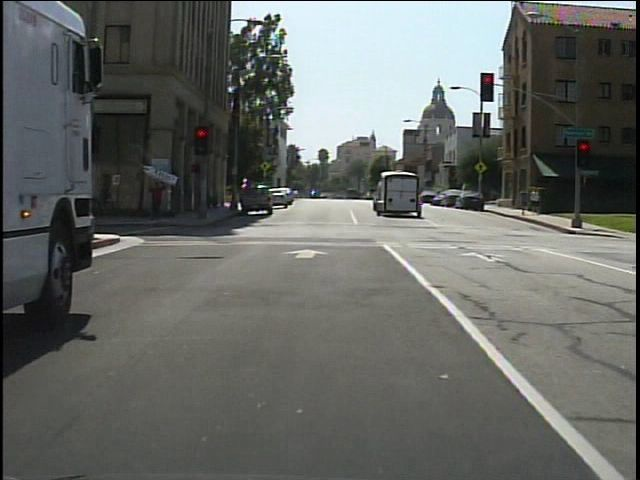person: (148, 175, 171, 223), (528, 187, 543, 216), (518, 184, 530, 219)
